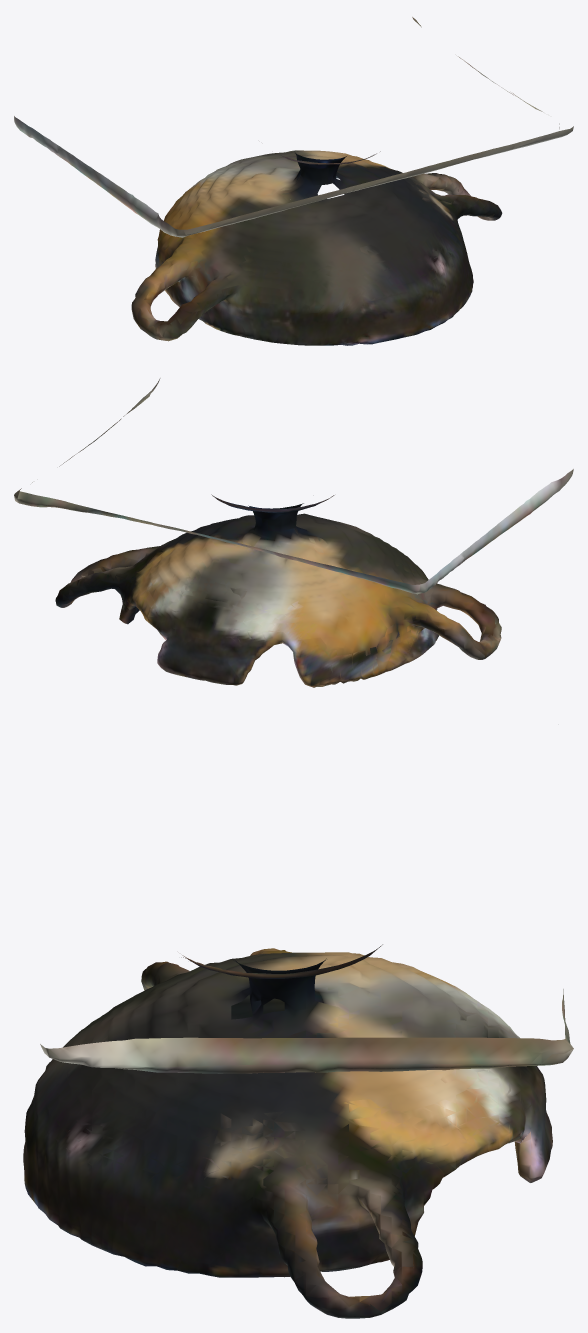
File: wideboy.gltf
3 views of the same model, one above another, from view 1: azimuth 30°, elevation 25°; view 2: azimuth 150°, elevation 25°; view 3: azimuth 270°, elevation 25° (orthographic). The views are drawn at different scales.
Visible parts, largest first — view 1: Node; view 2: Node; view 3: Node.
Boxes of the visible parts, <box> form: Node: <box>14,17,573,345</box>; Node: <box>14,378,573,687</box>; Node: <box>23,944,573,1318</box>.
Size of the model in its own units: 0.2255 by 0.0861 by 0.157.
1 material, 1 textured.
